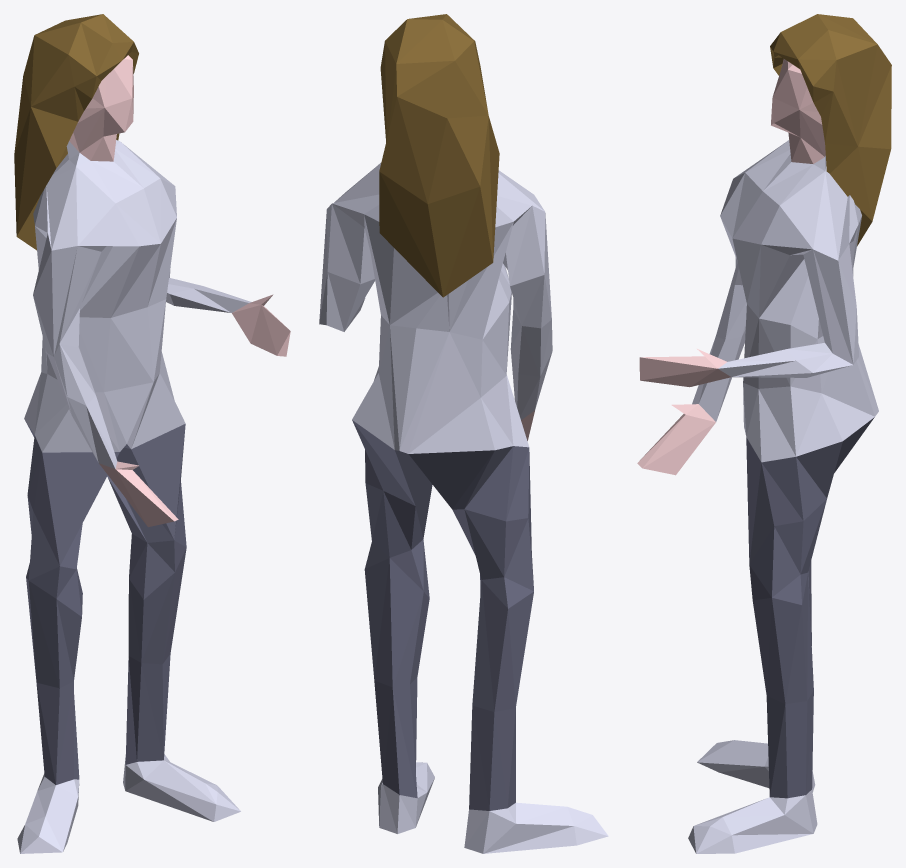
The model's file is Woman.gltf.
3 views of the same model, side by side, from view 1: azimuth 30°, elevation 25°; view 2: azimuth 150°, elevation 25°; view 3: azimuth 270°, elevation 25° (orthographic). The views are drawn at different scales.
Visible parts, largest first — view 1: WomanShirtShoes, WomanPants, WomanHair, WomanSkin; view 2: WomanShirtShoes, WomanPants, WomanHair; view 3: WomanShirtShoes, WomanPants, WomanHair, WomanSkin.
Boxes of the visible parts, x1=… form: WomanShirtShoes: x1=17, y1=140, x2=251, y2=853; WomanPants: x1=25, y1=420, x2=186, y2=784; WomanHair: x1=14, y1=14, x2=138, y2=250; WomanSkin: x1=69, y1=55, x2=290, y2=527; WomanShirtShoes: x1=319, y1=163, x2=608, y2=853; WomanPants: x1=352, y1=420, x2=533, y2=810; WomanHair: x1=379, y1=14, x2=499, y2=297; WomanShirtShoes: x1=688, y1=140, x2=878, y2=853; WomanPants: x1=746, y1=417, x2=874, y2=798; WomanHair: x1=770, y1=14, x2=891, y2=246; WomanSkin: x1=637, y1=59, x2=825, y2=475.
Size of the model in its own units: 48.32 by 147 by 42.92.
